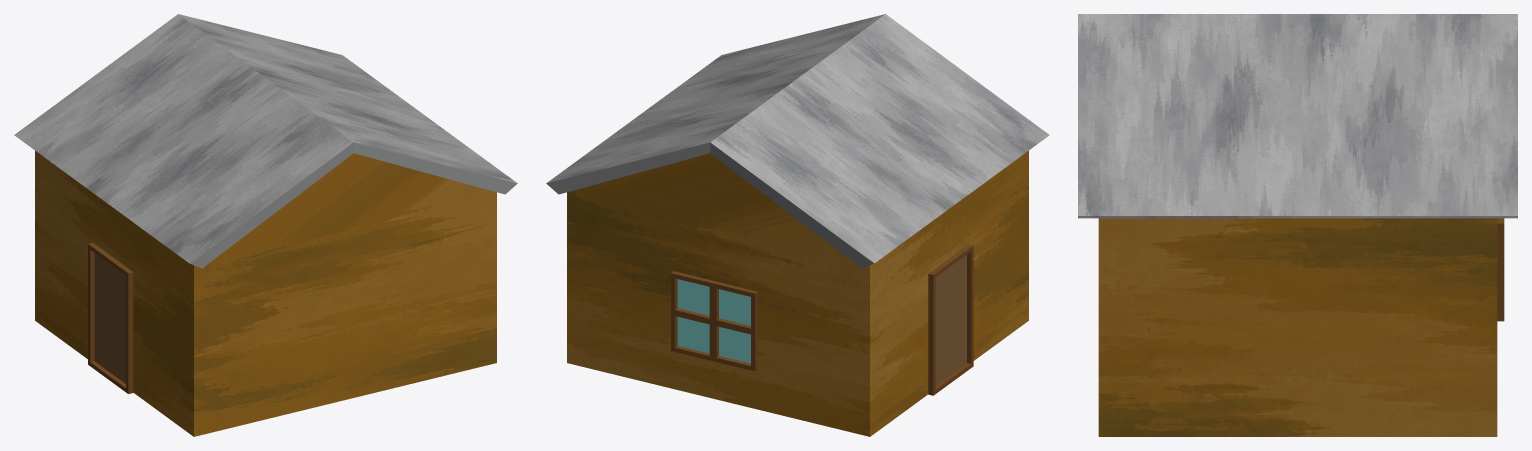
Rendered from CasaPlaya2.glb.
3 views of the same model, side by side, from view 1: azimuth 30°, elevation 25°; view 2: azimuth 150°, elevation 25°; view 3: azimuth 270°, elevation 25° (orthographic). The views are drawn at different scales.
Parts seen in each view (by area): view 1: Cube, Cube.001, puerta.001, puerta; view 2: Cube, Cube.001, ventana, puerta.001, puerta; view 3: Cube.001, Cube, ventana.
Part boxes in pixels (bbox=[...]): Cube: bbox=[35, 150, 496, 436]; Cube.001: bbox=[14, 14, 517, 268]; puerta.001: bbox=[94, 253, 125, 383]; puerta: bbox=[88, 243, 133, 393]; Cube: bbox=[567, 150, 1028, 436]; Cube.001: bbox=[546, 14, 1049, 268]; ventana: bbox=[671, 271, 757, 371]; puerta.001: bbox=[935, 255, 966, 385]; puerta: bbox=[928, 244, 973, 395]; Cube.001: bbox=[1078, 14, 1517, 218]; Cube: bbox=[1098, 218, 1497, 436]; ventana: bbox=[1497, 218, 1504, 321].
Bounding box in the file's own units: 4.58 × 3.52 × 4.24.
Materials: 6 (2 with a texture image).
